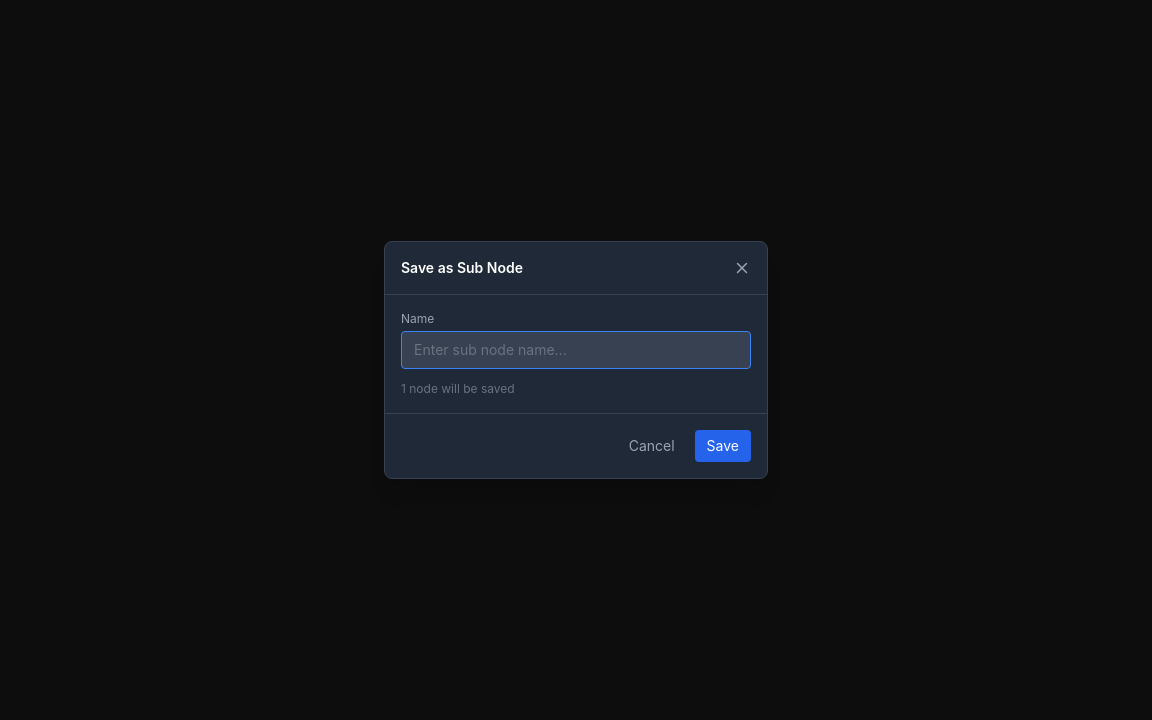
Test: SubNodeNameDialog › should clear error when user types after an error
The image size is (1152, 720).
Click the button "Save". click: (723, 446)
box: [695,430,751,462]
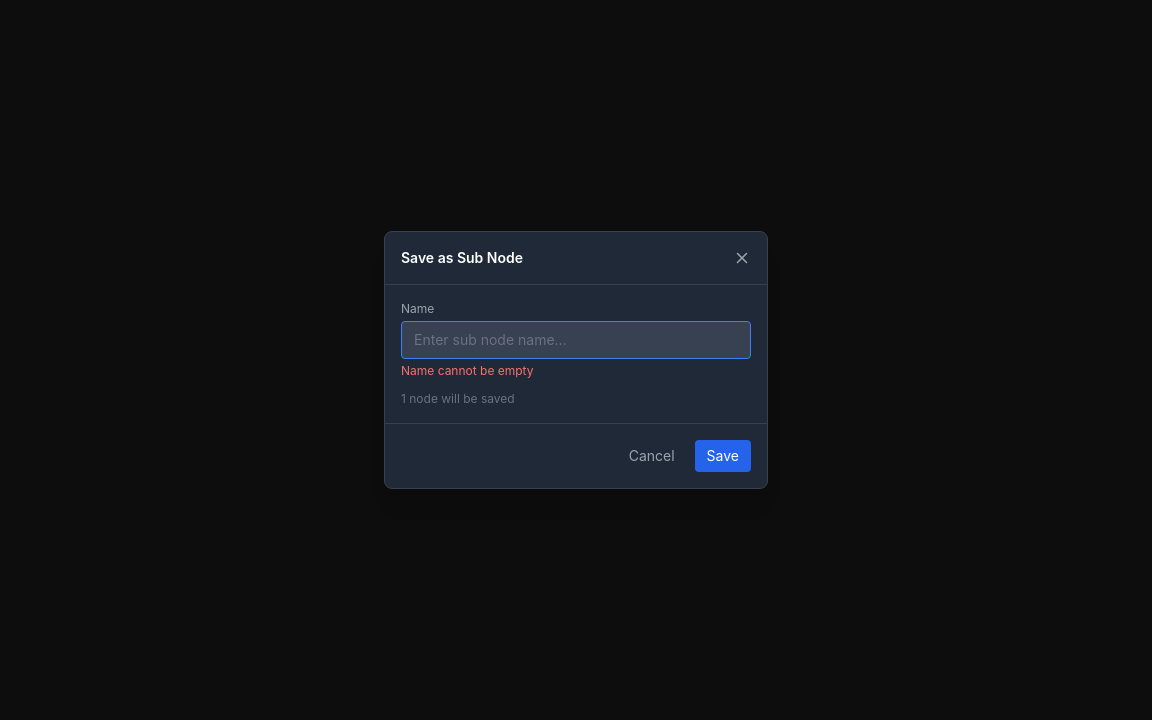
expect the text "Name cannot be empty" is shown: met, box [401,363,534,378]
Type "a" into the field with placeholder "Enter sub node name...". click: (576, 340)
box: [401,321,751,359]
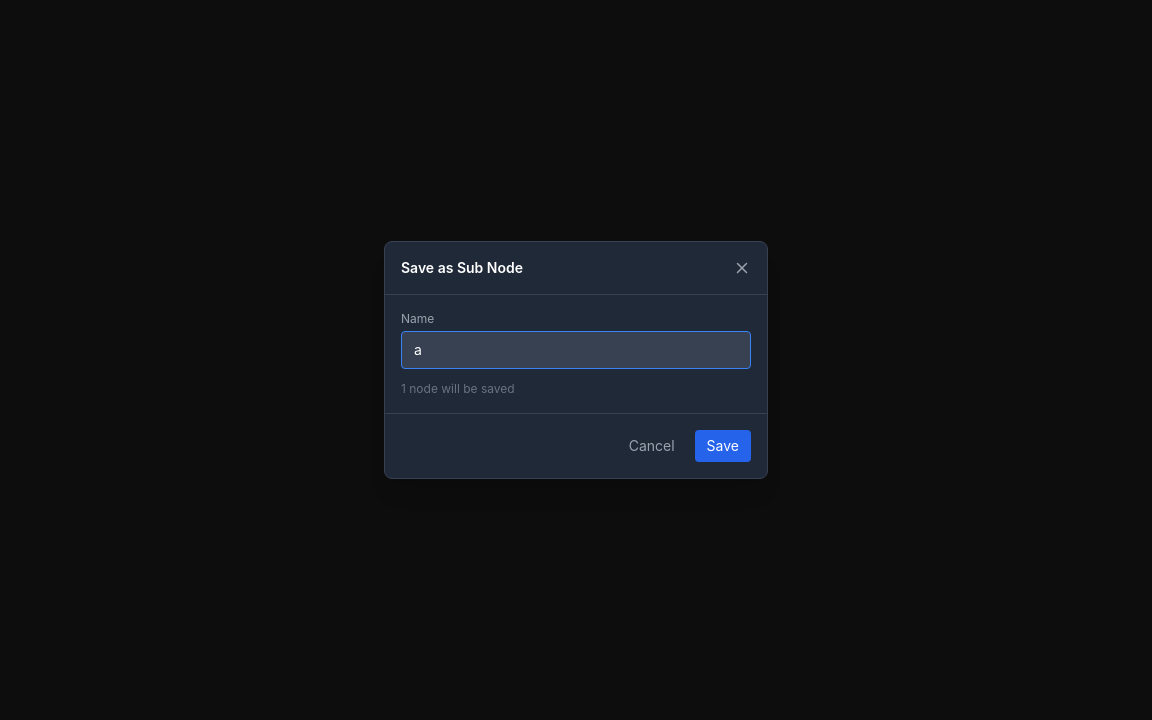
expect the text "Name cannot be empty" is gone: met
